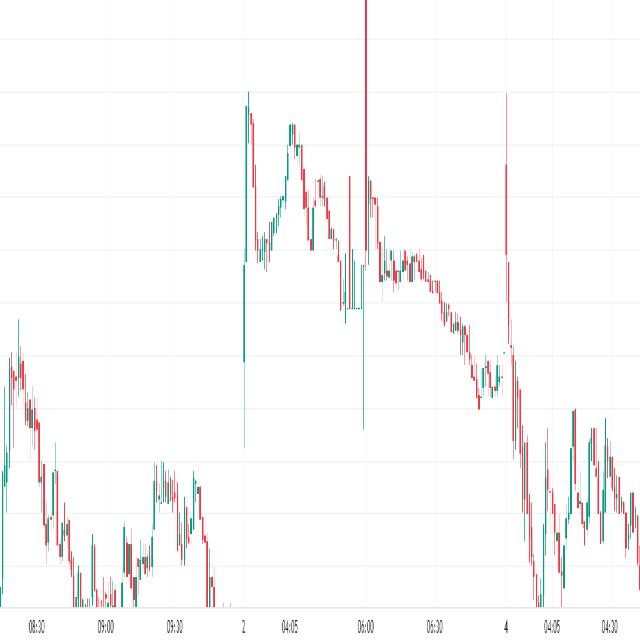Descending-Triangle: (237, 0, 363, 274)
